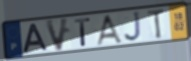A: (95, 14, 124, 47), (22, 23, 49, 54)
J: (123, 10, 144, 43)
T: (147, 8, 167, 41), (73, 17, 92, 47)
V: (44, 16, 71, 53)
